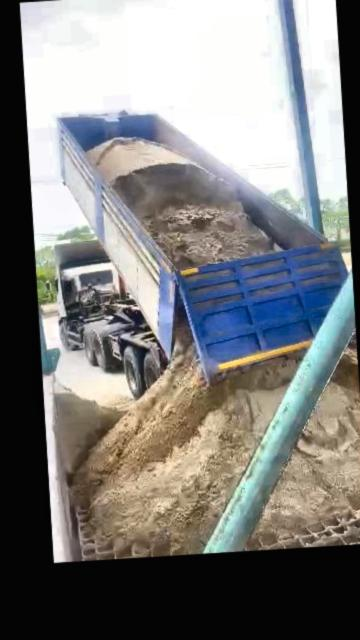sand: (73, 325, 296, 555), (87, 139, 273, 266), (254, 352, 360, 541), (56, 391, 123, 476)
